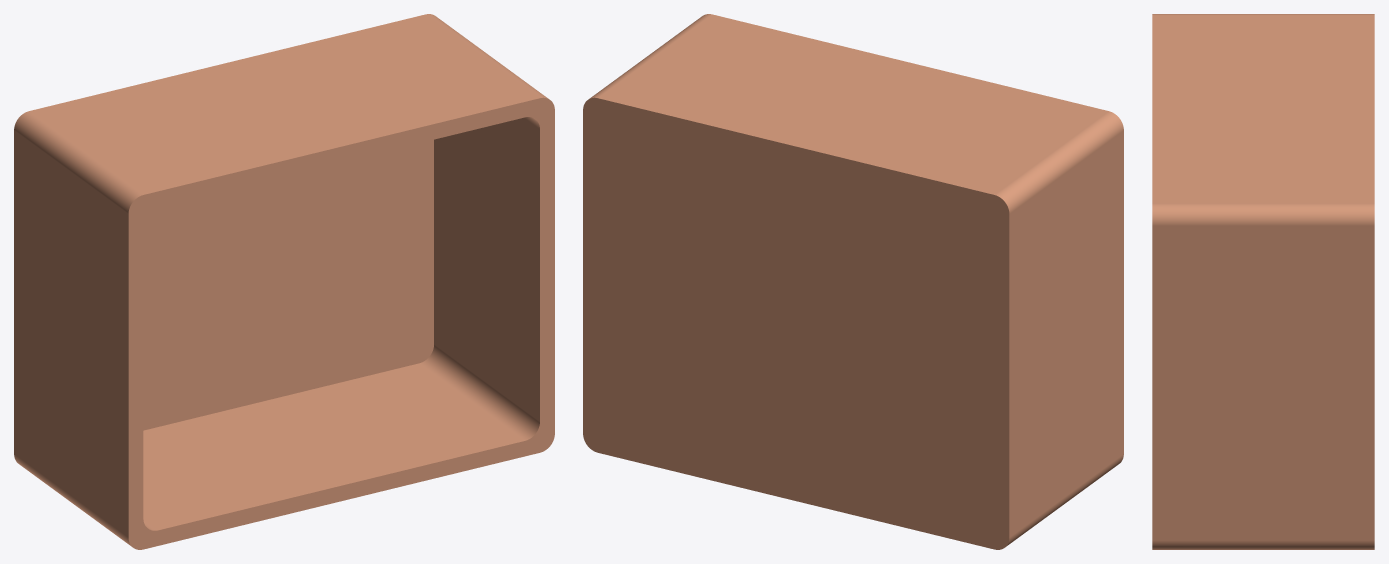
File: tray.glb
The picture shows the model from 3 angles, left to right: view 1: azimuth 30°, elevation 25°; view 2: azimuth 150°, elevation 25°; view 3: azimuth 270°, elevation 25°; orthographic projection. The views are drawn at different scales.
Parts seen in each view (by area): view 1: box.001; view 2: box.001; view 3: box.001.
Part boxes in pixels (x1,y1,x2,y2): box.001: (14,14,554,549); box.001: (583,14,1123,549); box.001: (1152,14,1374,549).
Bounding box in the file's own units: 0.086 × 0.0683 × 0.04.
